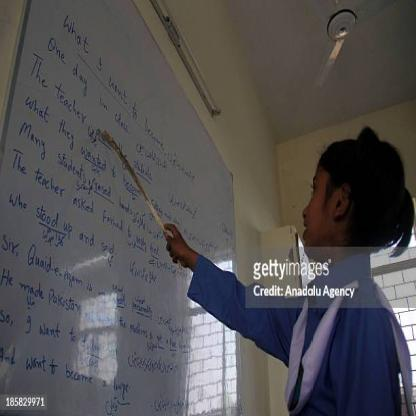Handwritten text: (11, 83, 231, 267), (47, 5, 212, 194), (0, 142, 172, 279), (5, 112, 169, 249), (15, 48, 166, 194), (33, 28, 147, 149), (0, 185, 128, 265), (0, 339, 141, 408), (0, 302, 131, 367), (0, 227, 105, 303), (0, 262, 92, 325)
Lecturer: (266, 121, 401, 411)
